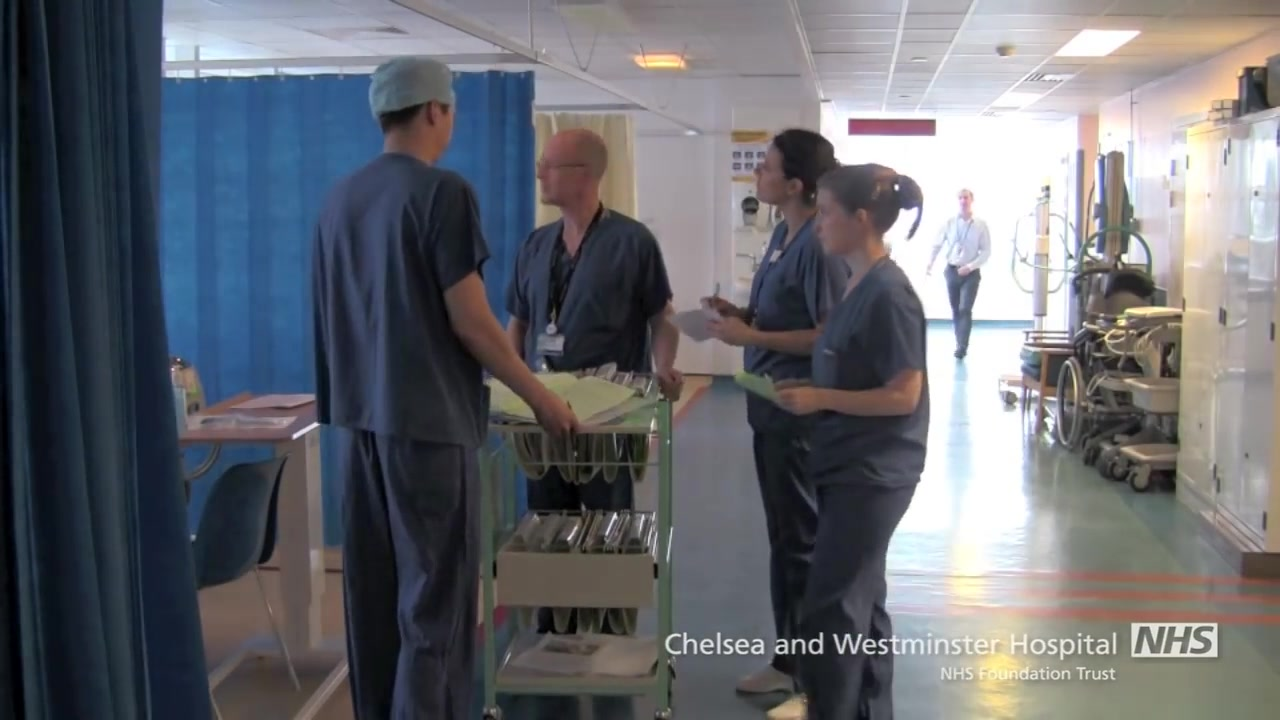cabinet: (1177, 100, 1280, 581)
chair: (191, 451, 301, 720), (1021, 326, 1076, 411)
curtain: (161, 68, 535, 549), (1, 1, 210, 720)
dispenser: (728, 183, 771, 233), (729, 183, 771, 231)
faucet: (731, 250, 770, 275)
overbed_table: (177, 392, 348, 720)
sink: (730, 276, 755, 295)
staff: (311, 55, 581, 720), (505, 127, 684, 720), (700, 128, 853, 720), (772, 162, 929, 720), (924, 188, 990, 359)
utility_cart: (480, 371, 674, 720), (1093, 308, 1180, 495)
